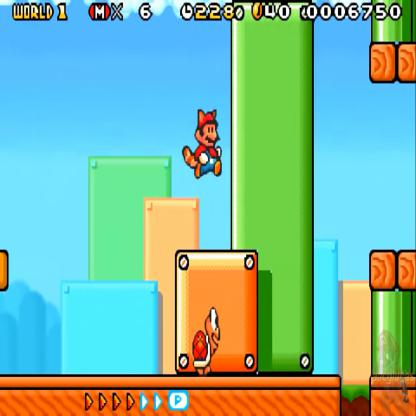Mario: (181, 106, 228, 183)
koopa: (190, 306, 224, 378)
moneda: (250, 2, 267, 24)
